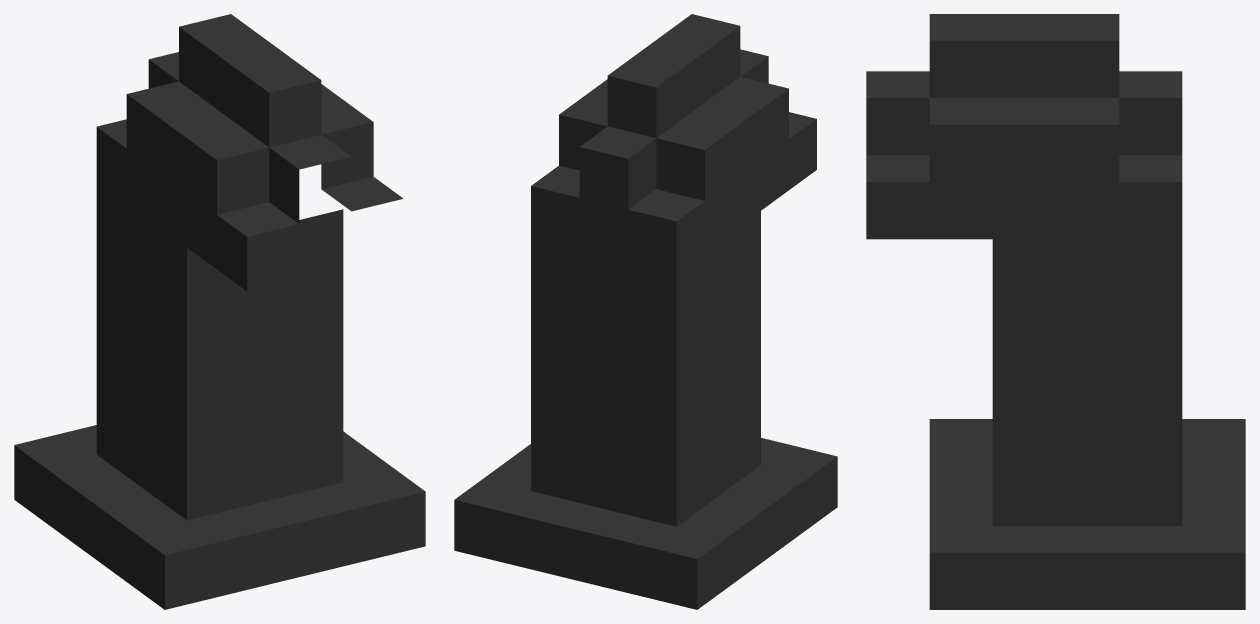
The model's file is knight-w.glb.
3 renders of one model, left to right at view 1: azimuth 30°, elevation 25°; view 2: azimuth 150°, elevation 25°; view 3: azimuth 270°, elevation 25°, orthographic. The views are drawn at different scales.
Visible parts, largest first — view 1: root; view 2: root; view 3: root.
Boxes of the visible parts, x1,y1,x2,y2 form: root: (14,14,425,609); root: (454,14,837,609); root: (866,14,1245,609).
Size of the model in its own units: 0.7143 by 1.29 by 0.8571.
Materials: 1 (1 with a texture image).
